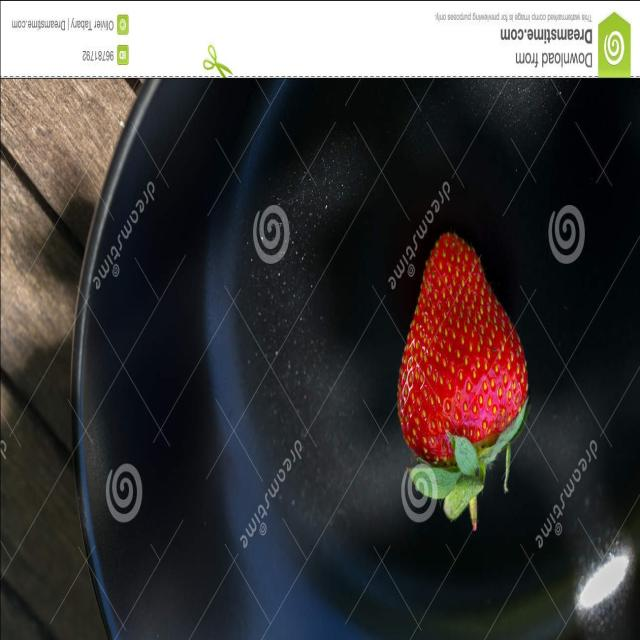strawberry: (391, 205, 553, 556)
